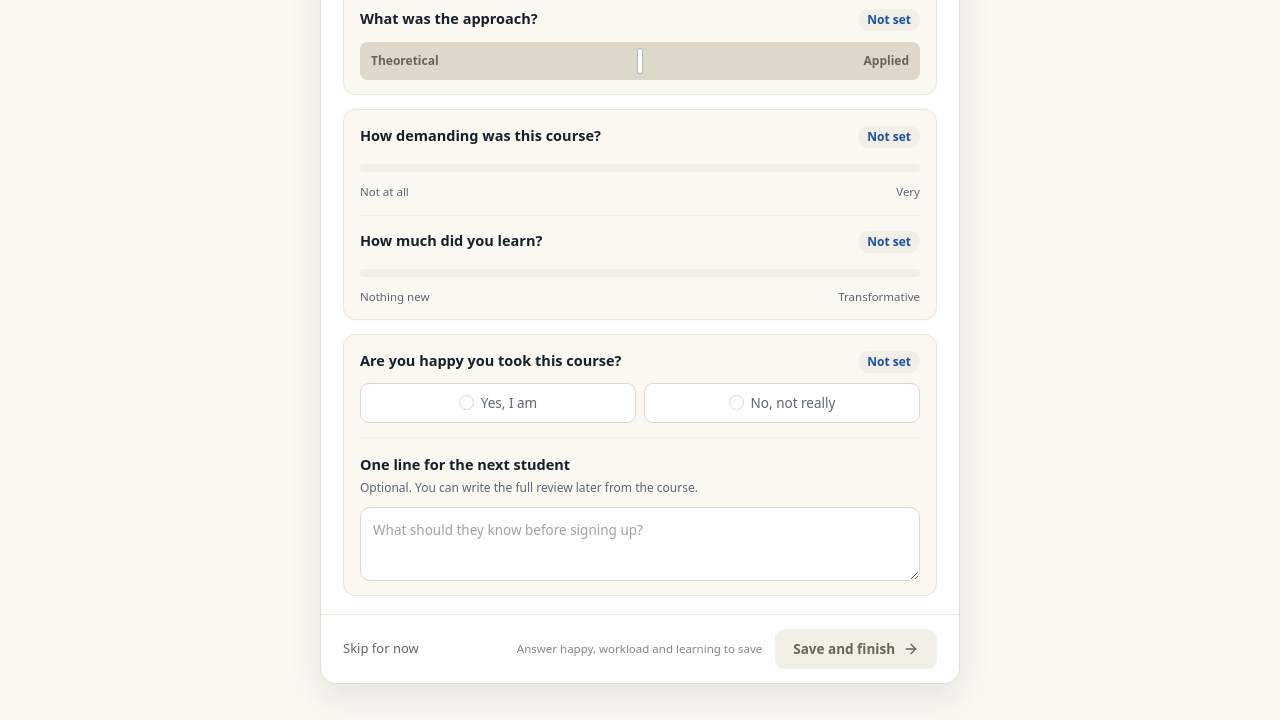
Test: skipping › says so plainly when the whole round was reviewed
(page scrolled)
Click the button "Yes, I am" at (498, 403), box [360,383,636,423]
(page scrolled)
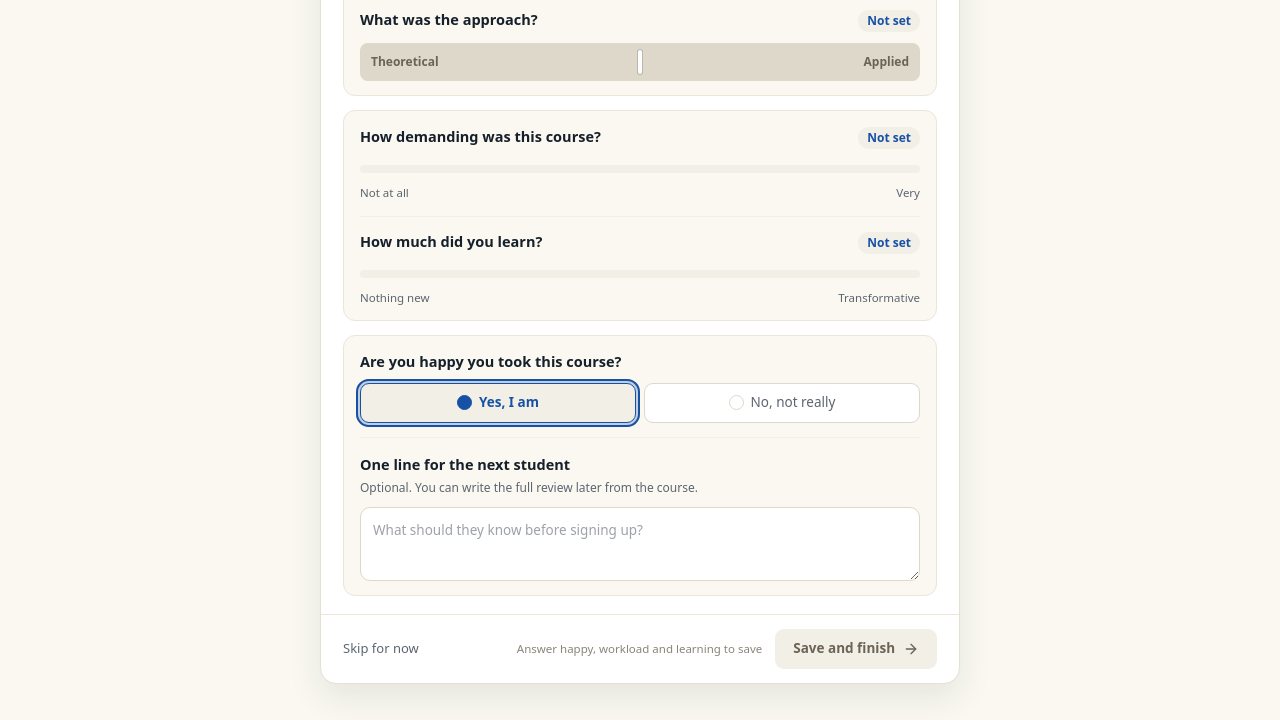
Set the slider labelled "How demanding was this course?" to "8" at (640, 164), box [360,126,920,202]
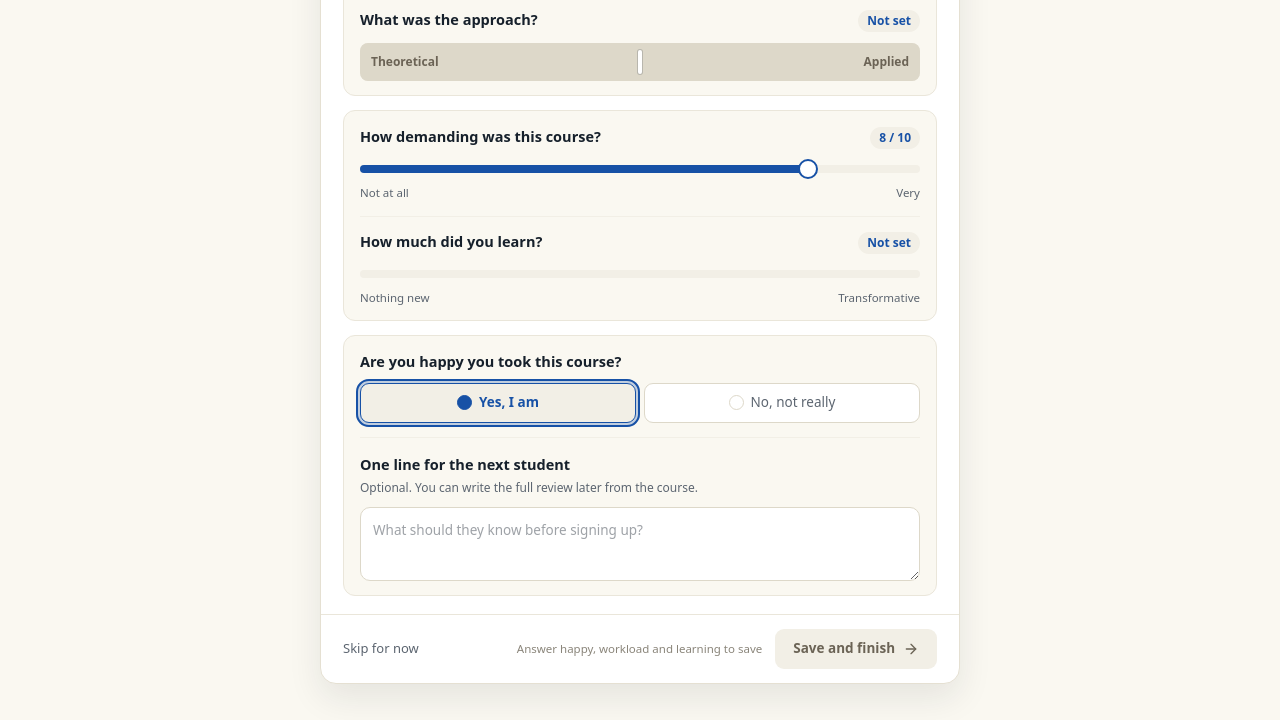
Set the slider labelled "How much did you learn?" to "5" at (640, 268), box [360,230,920,306]
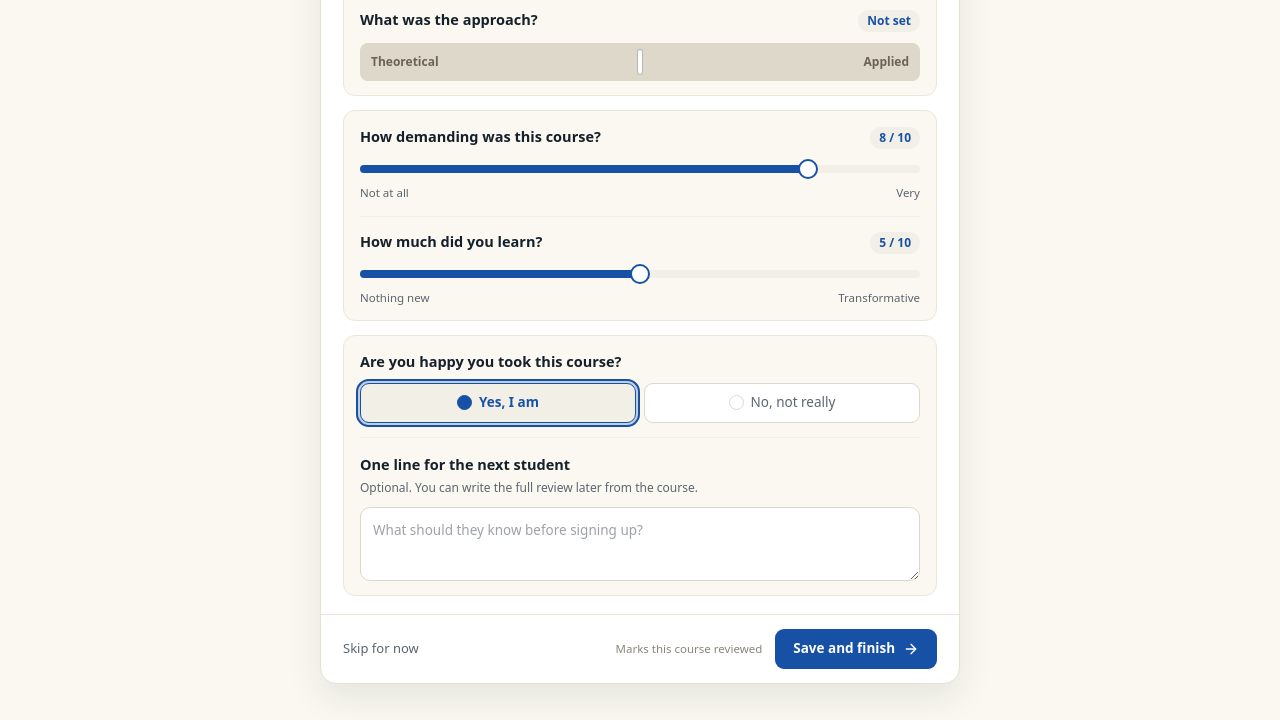
Click the button "Save and finish" at (856, 648), box [775,628,937,668]
(page scrolled)
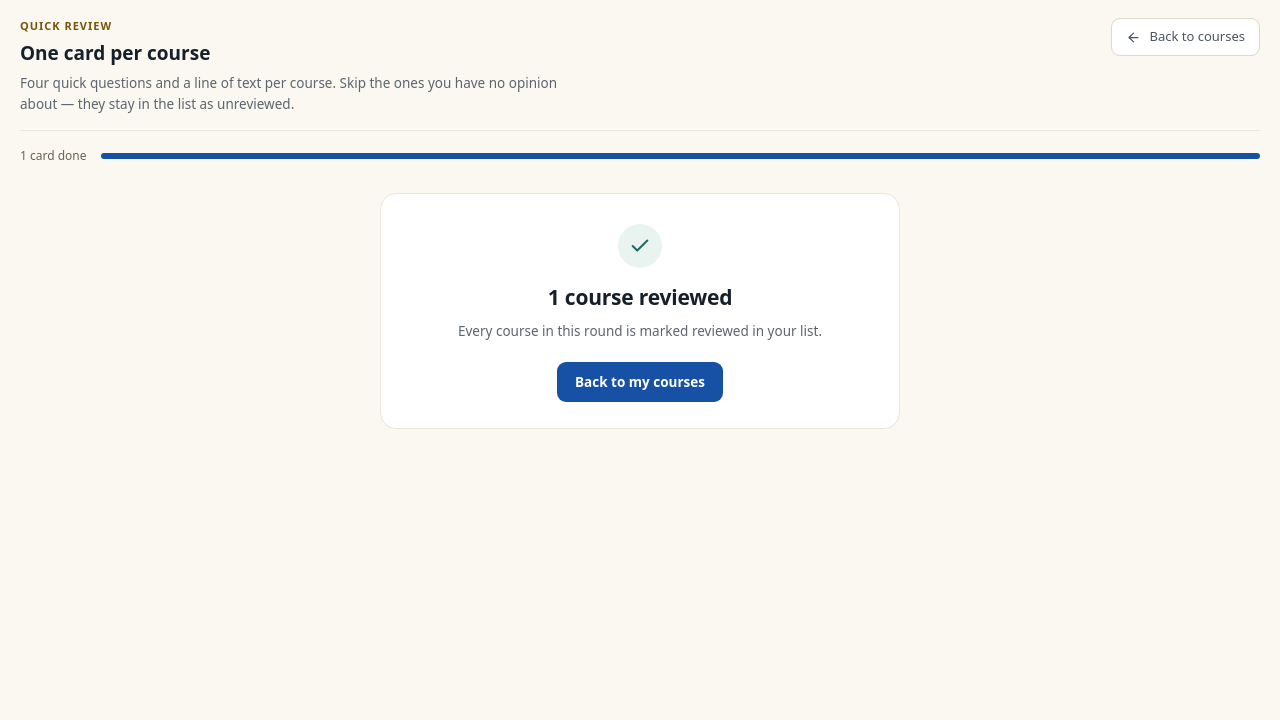
Check: the heading "1 course reviewed" is shown, box [548,283,732,311]
